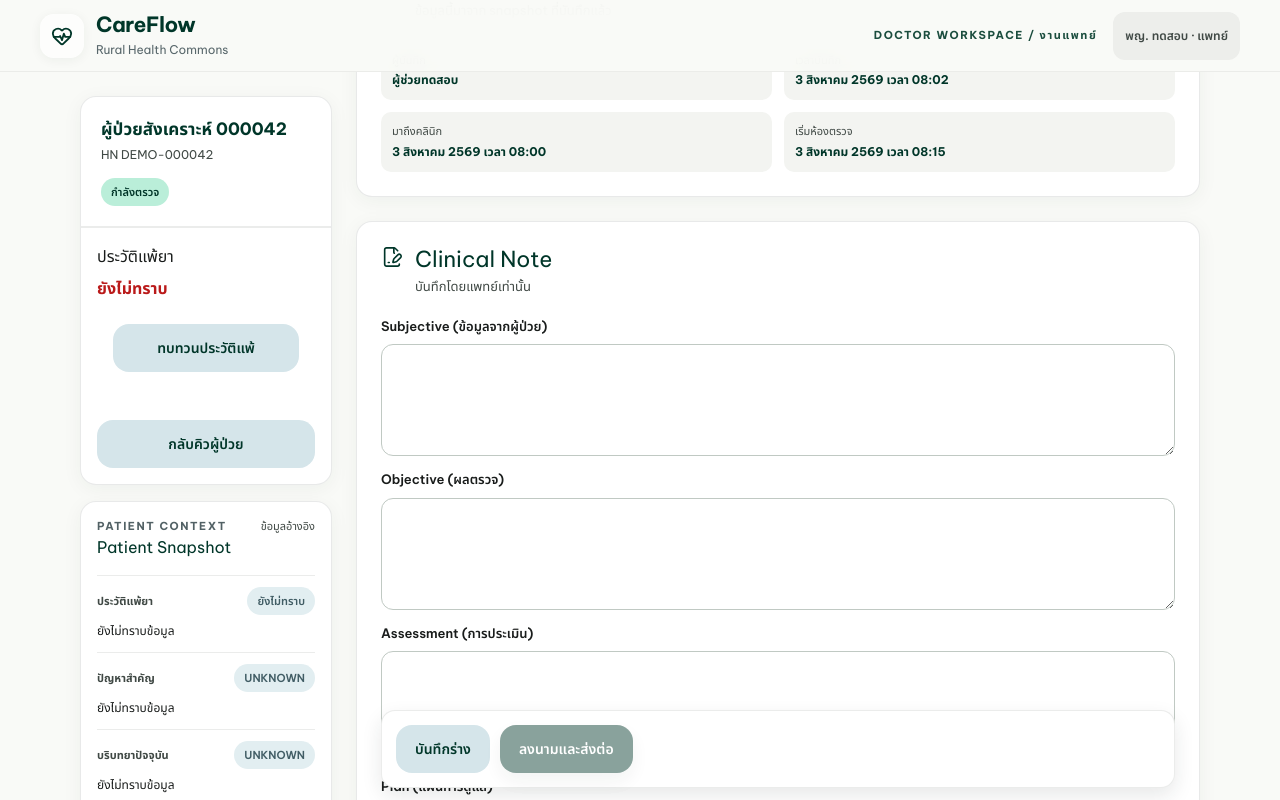
Doctor consultation authoring › warns on a stale workspace, blocks commands, and recovers without losing text
(page scrolled)
Type "ข้อความระหว่างสัญญาณขาดหาย" into the text box labelled "Subjective (ข้อมูลจากผู้ป่วย)" at [778, 400], box [381,344,1175,456]
(page scrolled)
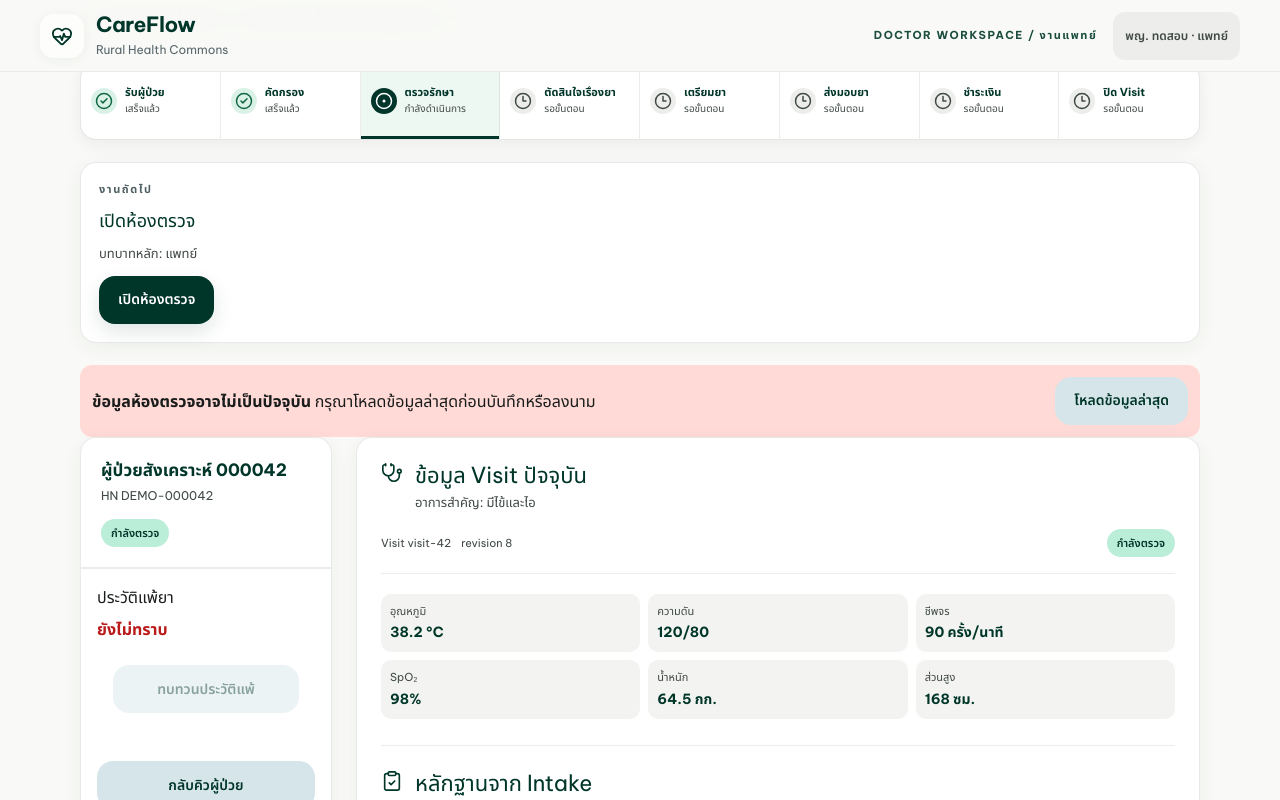
Expected: the text "ข้อมูลห้องตรวจอาจไม่เป็นปัจจุบัน" is shown, [92,391,311,411]
Expected: the button "ทบทวนประวัติแพ้" is disabled, [113,665,299,713]
Click the button "โหลดข้อมูลล่าสุด" at [1122, 401], box [1055,377,1188,425]
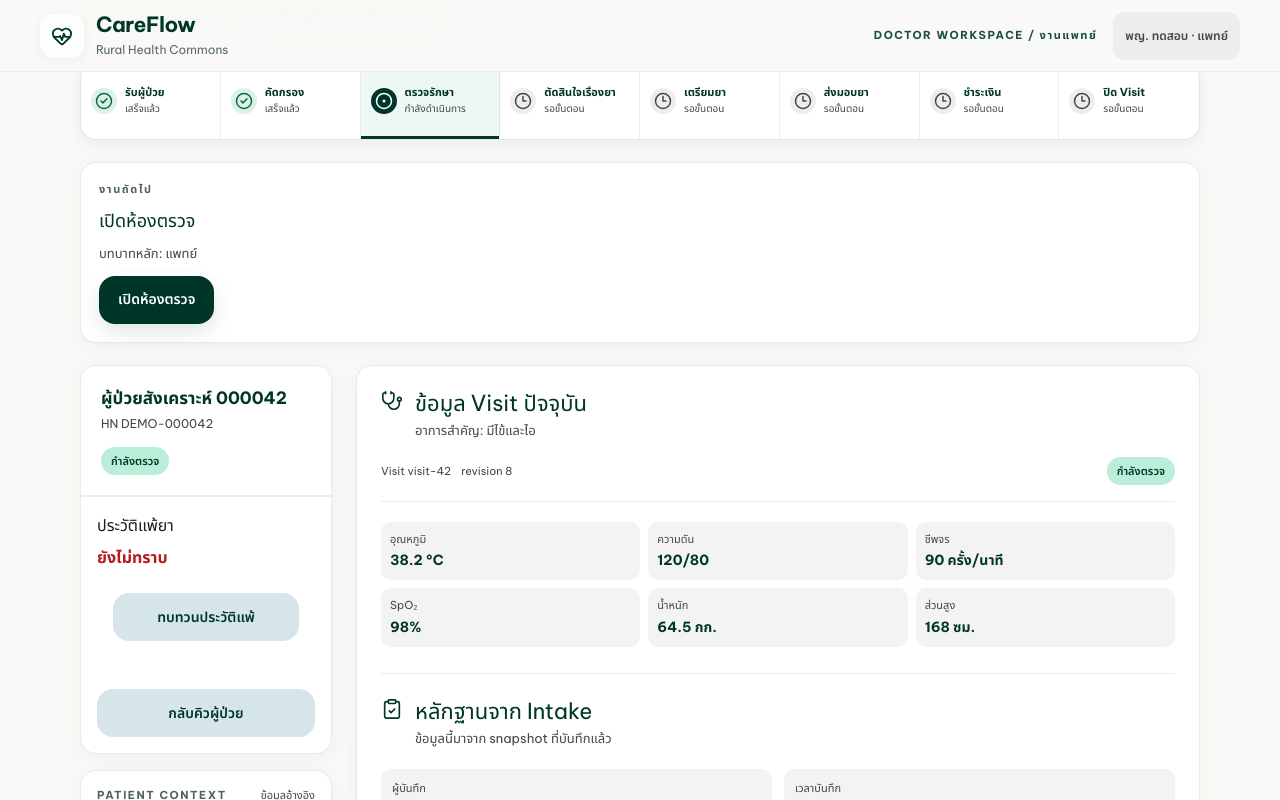
Expected: the text "ข้อมูลห้องตรวจอาจไม่เป็นปัจจุบัน" is gone
Expected: the button "ทบทวนประวัติแพ้" is enabled, [113,593,299,641]
